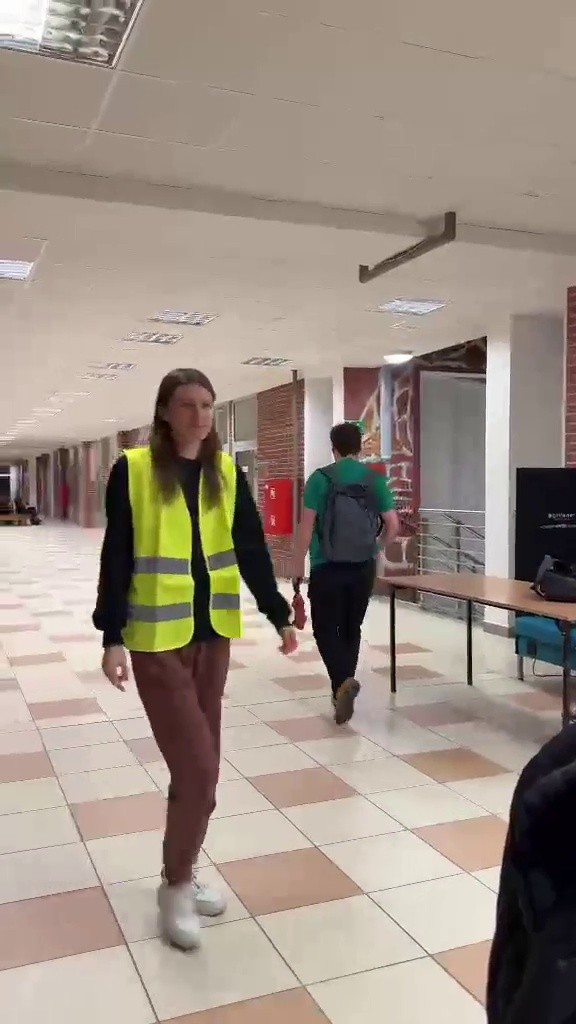no vest: (295, 407, 398, 716)
vest: (105, 360, 285, 943)
